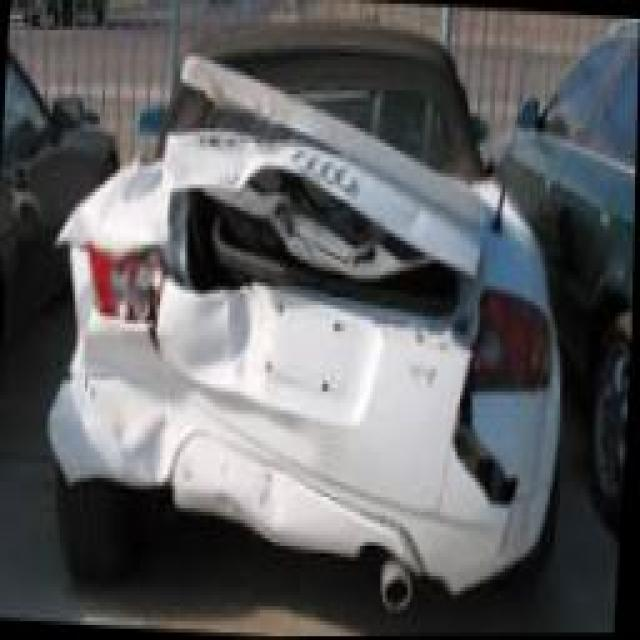Bumper: (51, 323, 567, 593), (450, 337, 526, 506)
Dickey: (58, 49, 488, 330)
Light: (85, 240, 167, 334)
